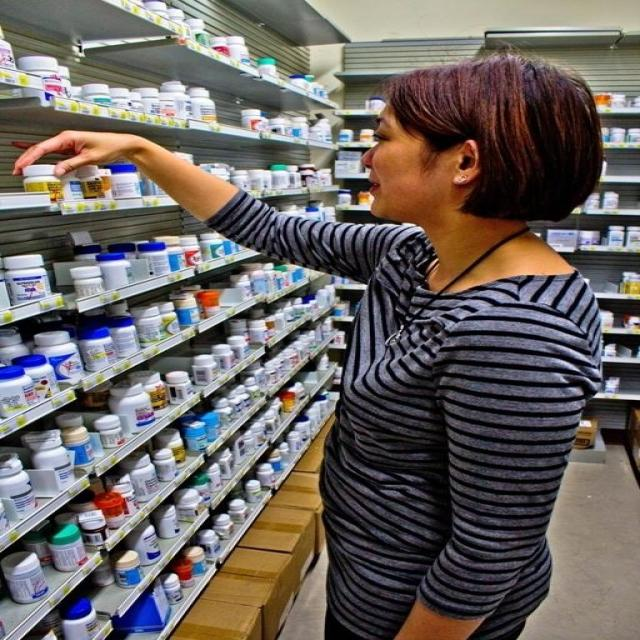Medical Waste: (0, 275, 320, 637), (28, 0, 346, 137)
